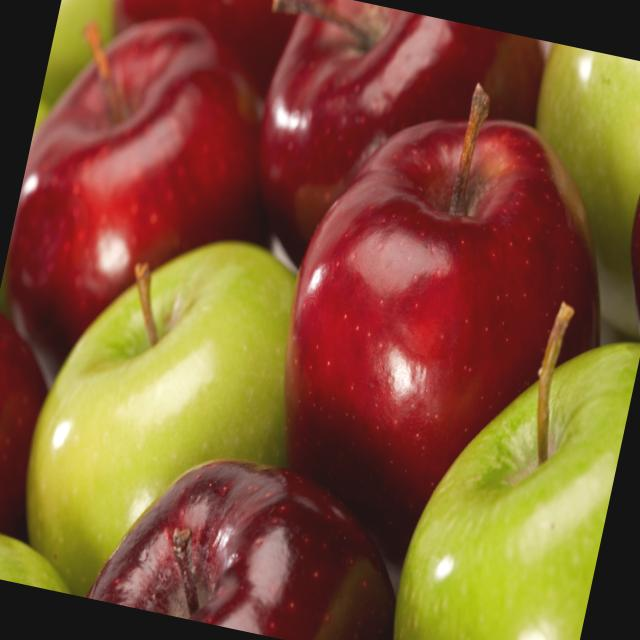apple: (236, 90, 634, 569), (224, 0, 555, 344), (0, 0, 285, 381)
